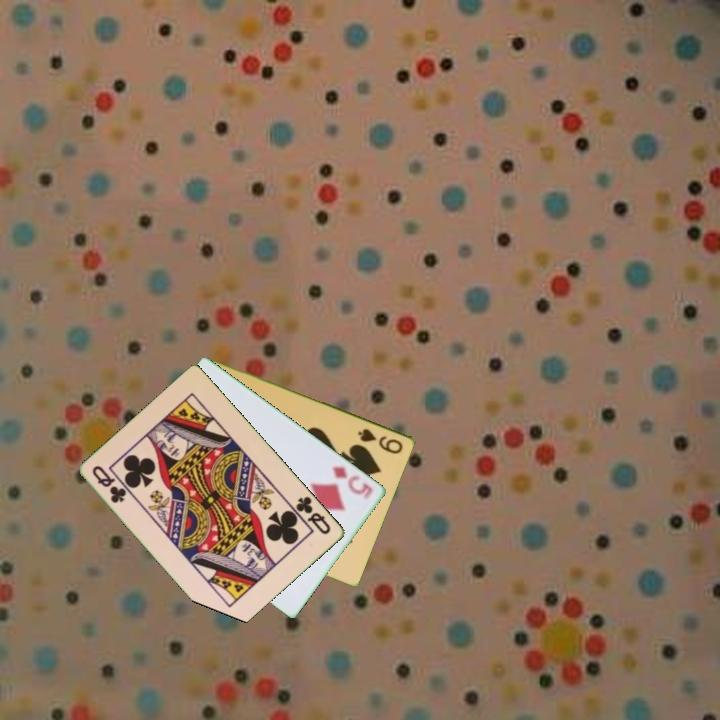5d: (329, 462, 376, 501)
9s: (355, 425, 406, 457)
Qc: (293, 493, 334, 538), (89, 462, 130, 506)
